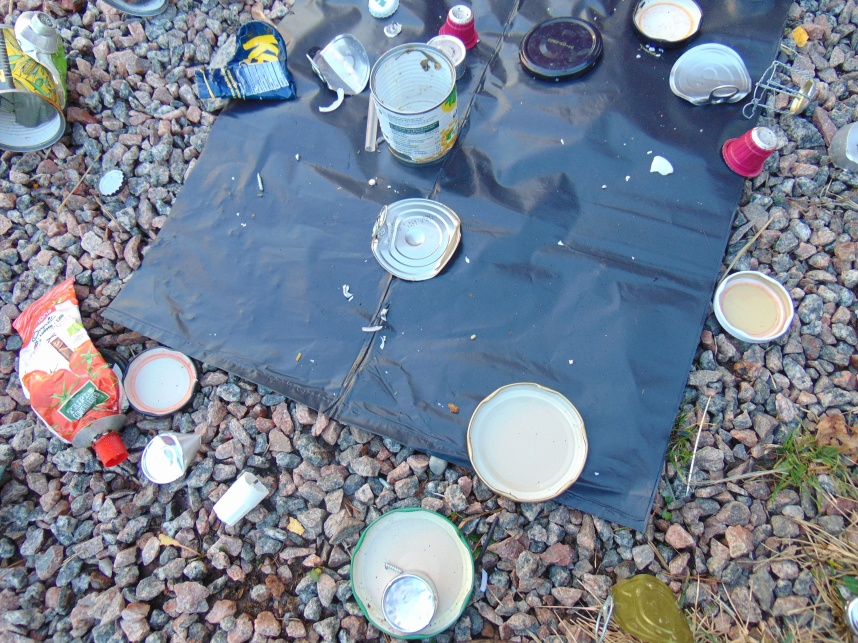metal: (12, 276, 125, 450), (348, 508, 475, 639), (465, 382, 589, 501), (194, 18, 296, 104), (373, 197, 462, 284), (594, 575, 694, 643), (712, 270, 794, 345), (521, 16, 603, 84), (124, 346, 198, 418), (669, 43, 752, 105), (749, 57, 815, 118), (8, 12, 70, 76), (308, 34, 369, 93), (379, 571, 437, 631), (631, 1, 704, 45), (140, 431, 202, 482), (423, 32, 468, 80), (438, 3, 478, 51), (830, 120, 858, 172), (95, 164, 127, 196), (367, 1, 402, 19)
metal_can: (369, 39, 462, 162), (1, 28, 65, 148), (97, 1, 170, 19)
